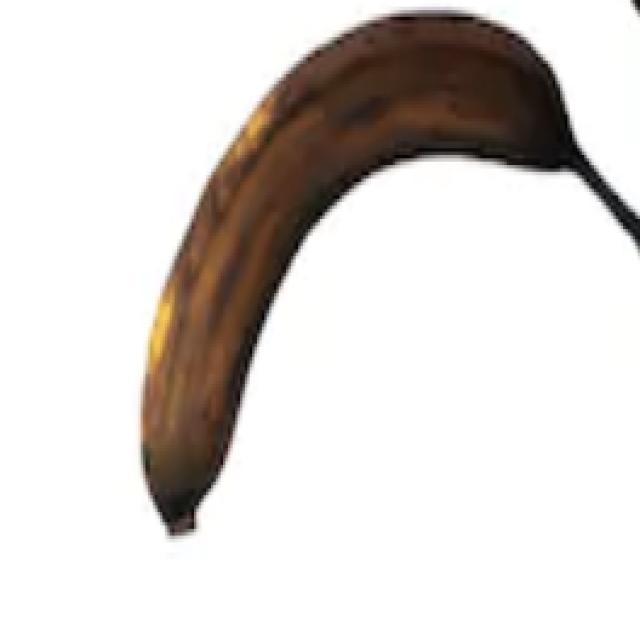Rotten: (111, 0, 640, 584)
